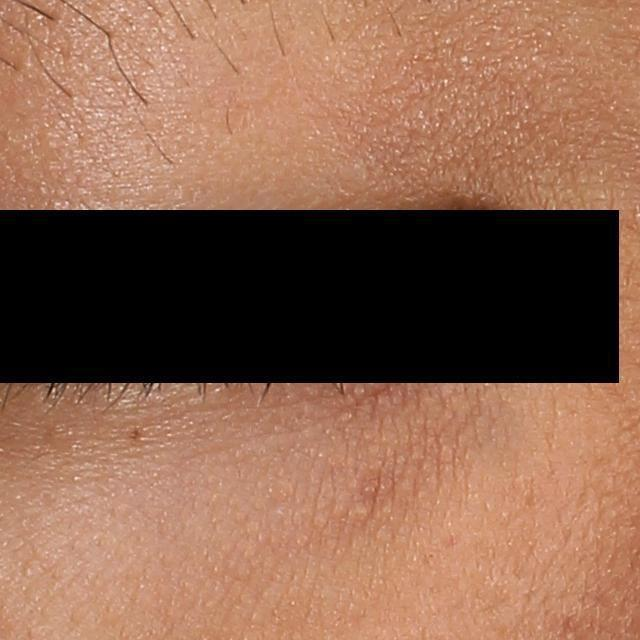nevus: (129, 425, 144, 441)
